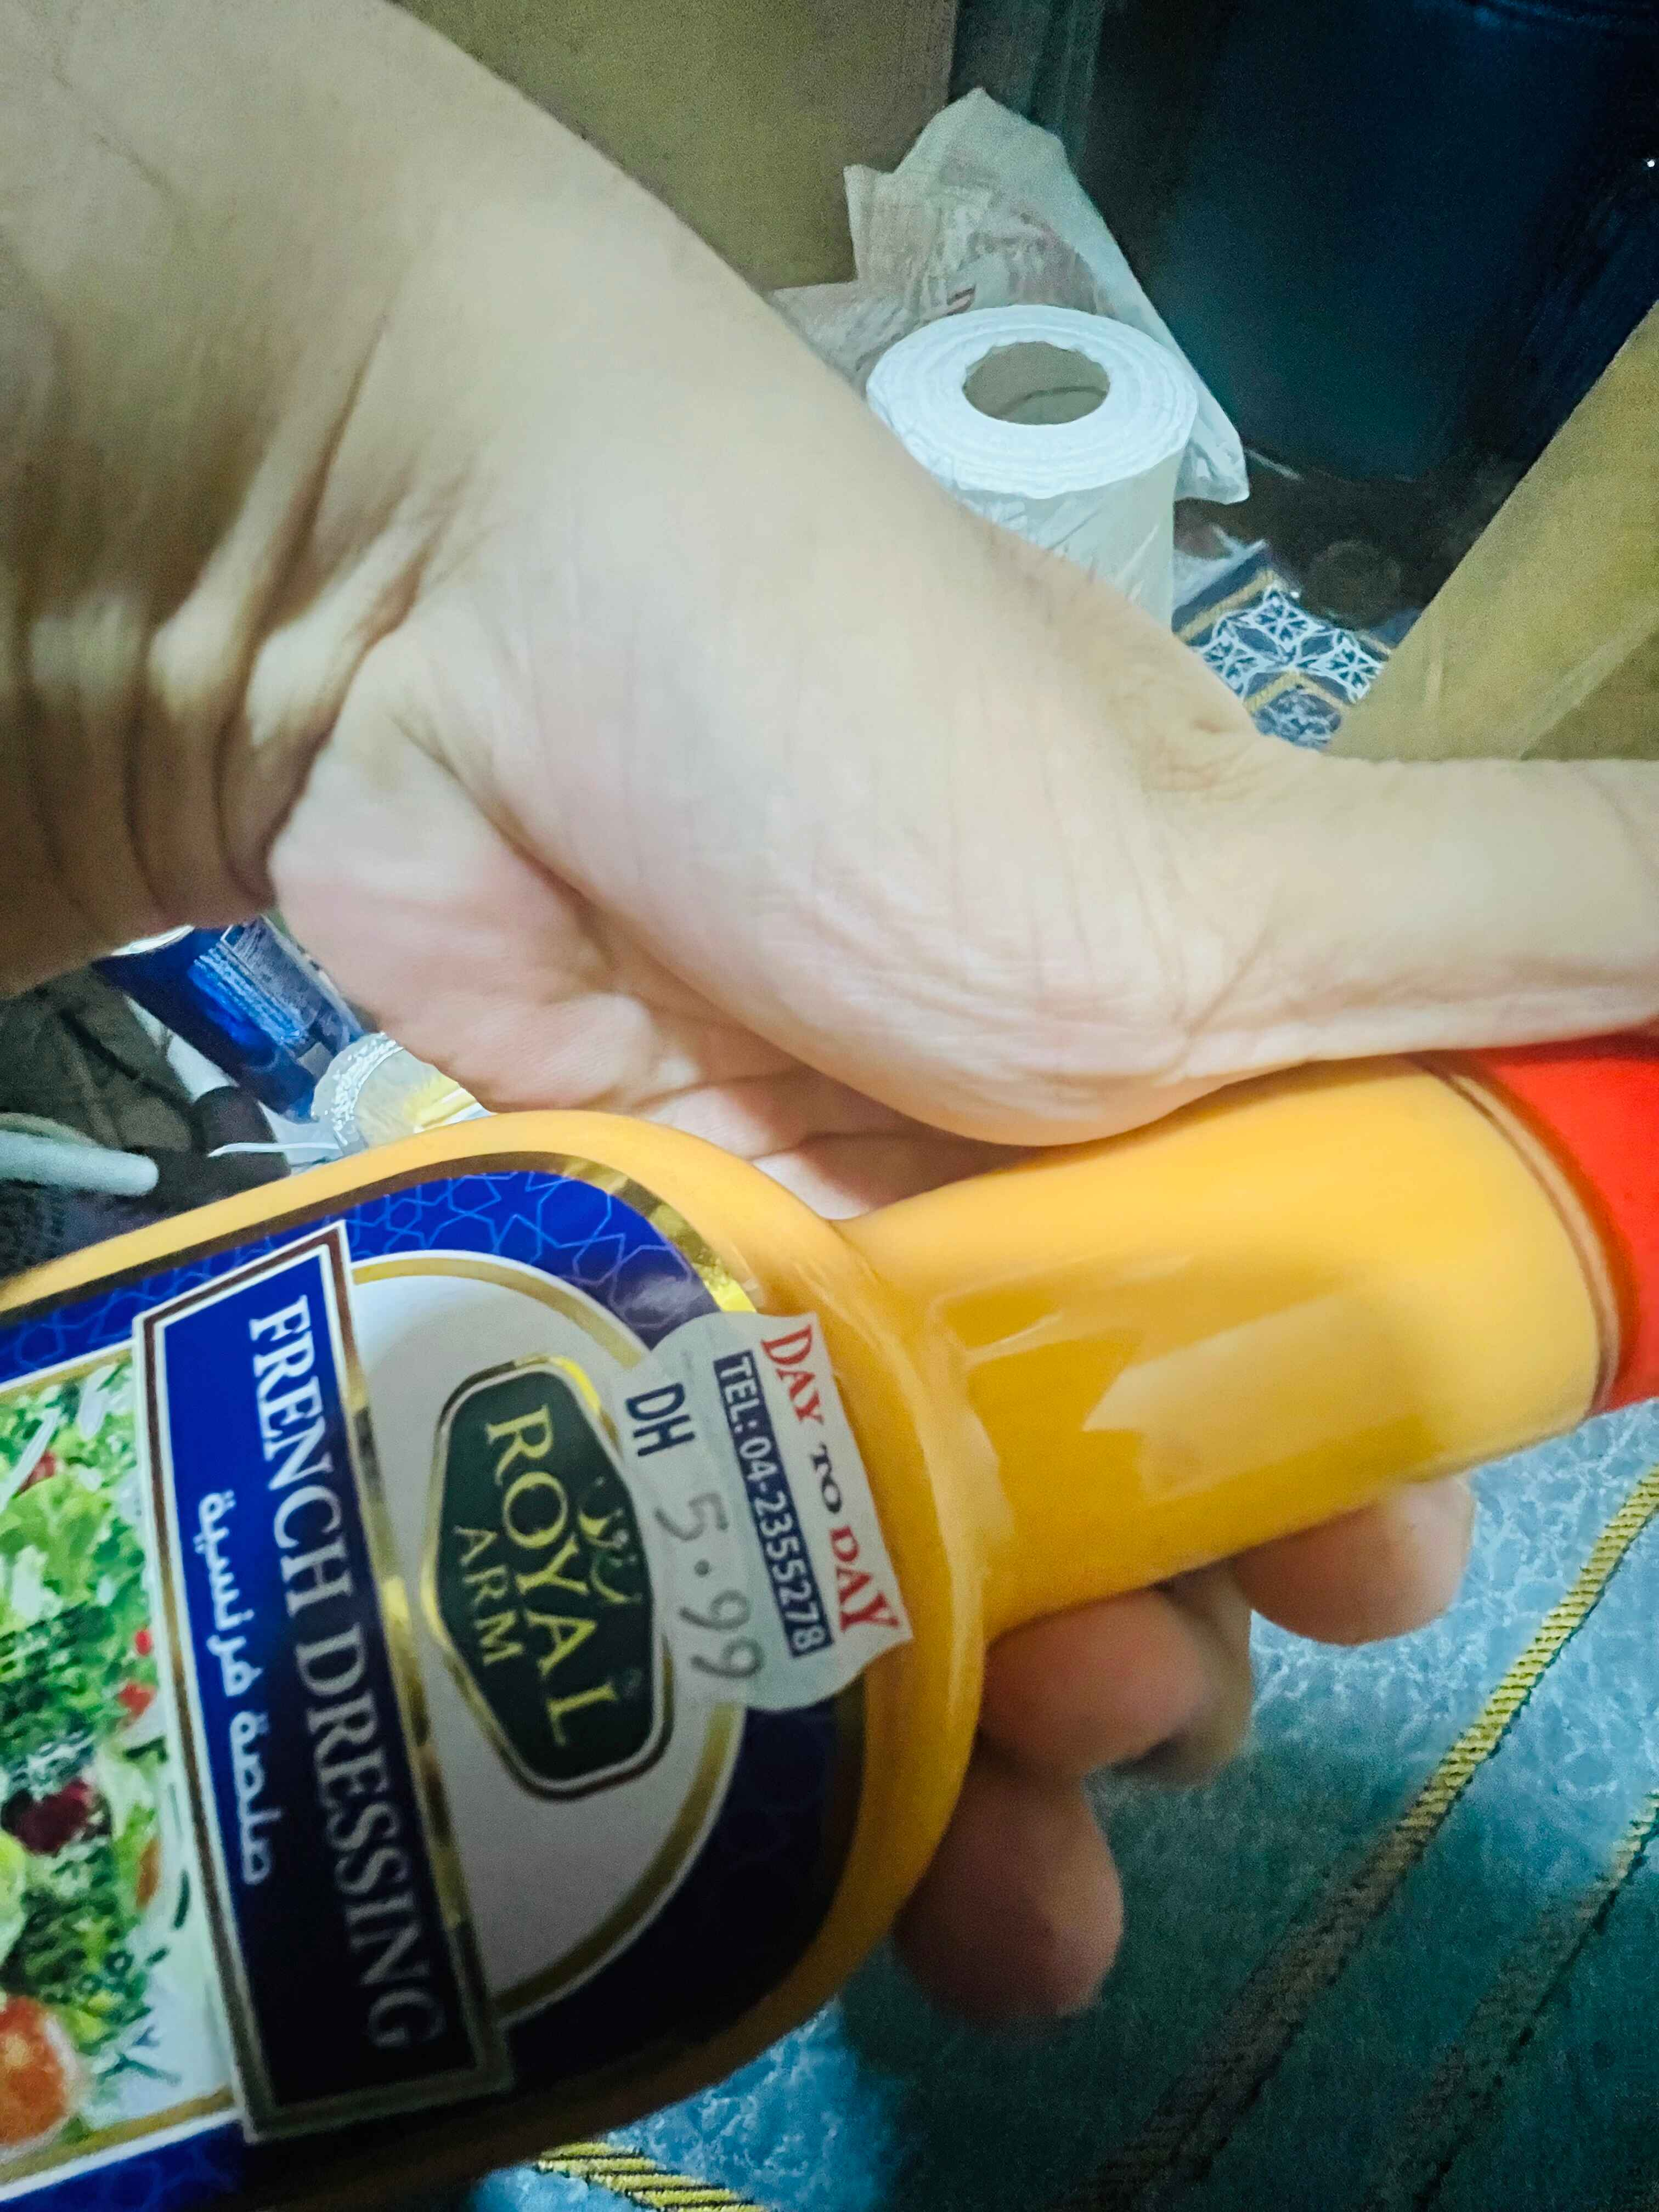PriceTagSmall: (612, 1287, 924, 1716)
